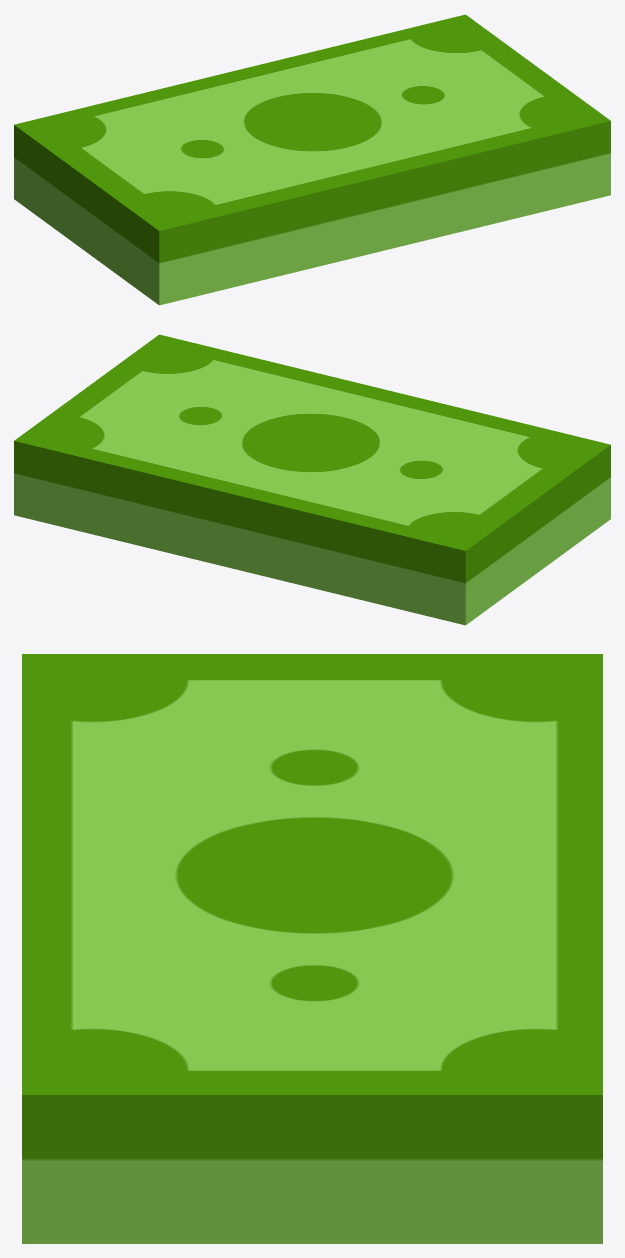
Rendered from Money_geo.fbx.
3 views of the same model, one above another, from view 1: azimuth 30°, elevation 25°; view 2: azimuth 150°, elevation 25°; view 3: azimuth 270°, elevation 25° (orthographic). The views are drawn at different scales.
Visible parts, largest first — view 1: Money_geo; view 2: Money_geo; view 3: Money_geo.
Boxes of the visible parts, box(x1,y1,x2,y2) form: Money_geo: box(14, 14, 610, 305); Money_geo: box(14, 334, 610, 625); Money_geo: box(22, 654, 602, 1243).
Size of the model in its own units: 0.5247 by 0.2924 by 0.0826.
